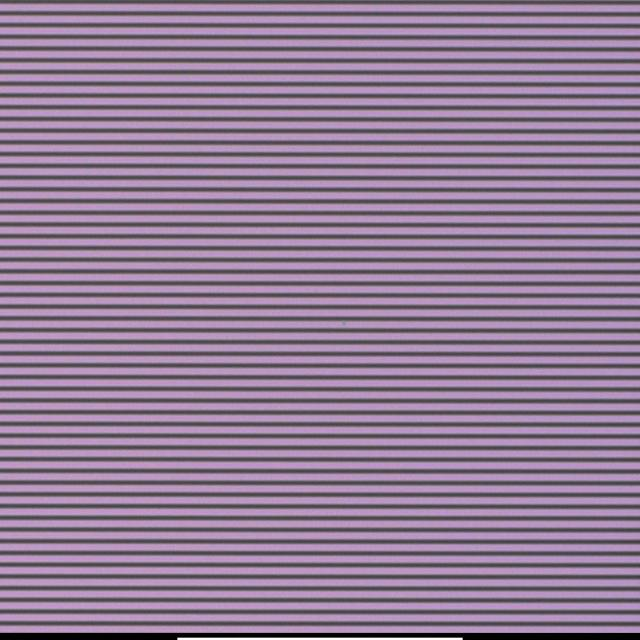nonvisual: (340, 318, 350, 327)
